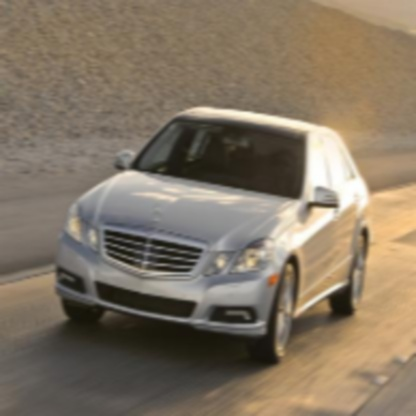Vehicle: (52, 105, 375, 366)
